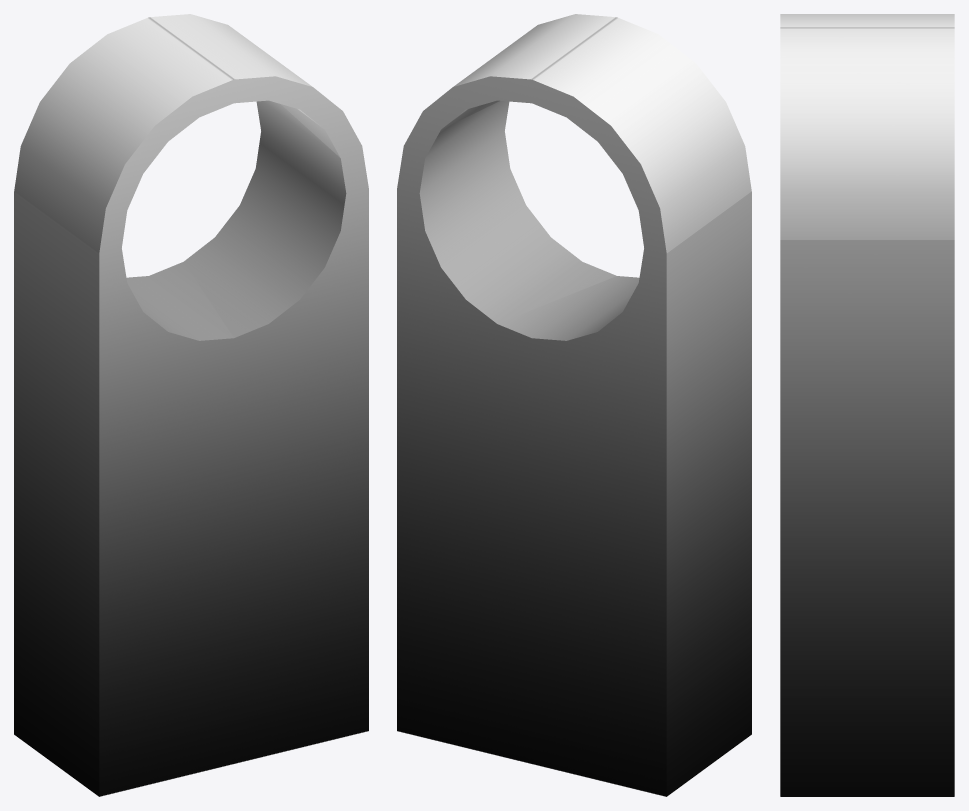
Rendered from BG_curvetop_hole.fbx.
3 views of the same model, side by side, from view 1: azimuth 30°, elevation 25°; view 2: azimuth 150°, elevation 25°; view 3: azimuth 270°, elevation 25° (orthographic). The views are drawn at different scales.
Visible parts, largest first — view 1: BG_curvetop_hole; view 2: BG_curvetop_hole; view 3: BG_curvetop_hole.
Boxes of the visible parts, <box> form: BG_curvetop_hole: <box>14,14,368,796</box>; BG_curvetop_hole: <box>397,14,751,796</box>; BG_curvetop_hole: <box>780,14,954,796</box>.
Size of the model in its own units: 2048 by 4970 by 1120.
